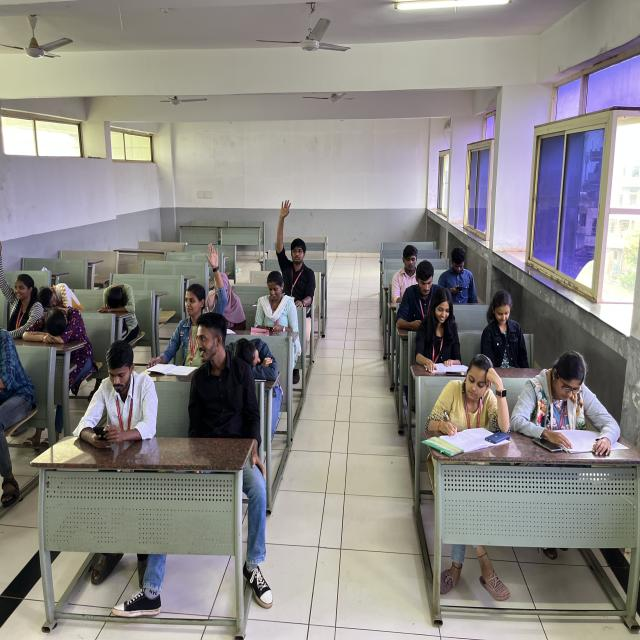Hand Rising: (155, 239, 225, 385), (268, 196, 324, 308), (0, 235, 44, 335)
Reading: (548, 338, 628, 444), (420, 288, 470, 371)
Sleeping: (223, 328, 290, 402), (30, 305, 88, 360), (100, 267, 140, 335), (38, 275, 86, 320)
Using Phone: (78, 332, 159, 456), (473, 284, 532, 376), (250, 256, 298, 344), (392, 264, 444, 332), (442, 242, 482, 308)
Writing: (432, 351, 492, 448), (201, 252, 250, 333)
